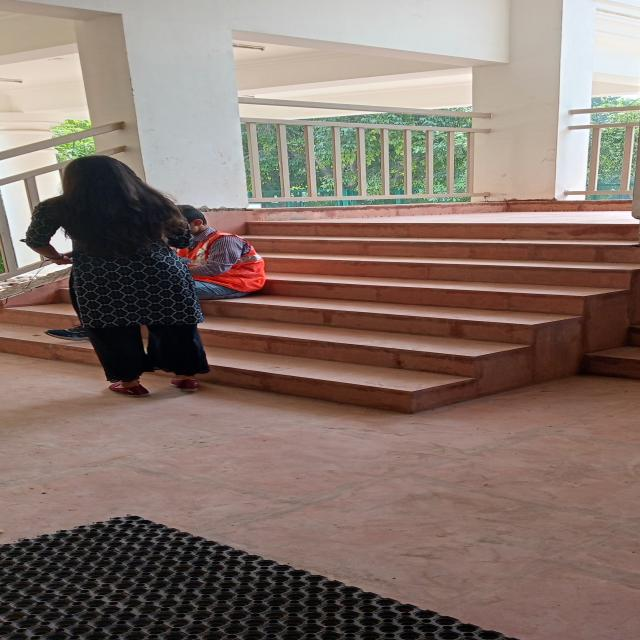unsafe: (27, 154, 225, 402)
